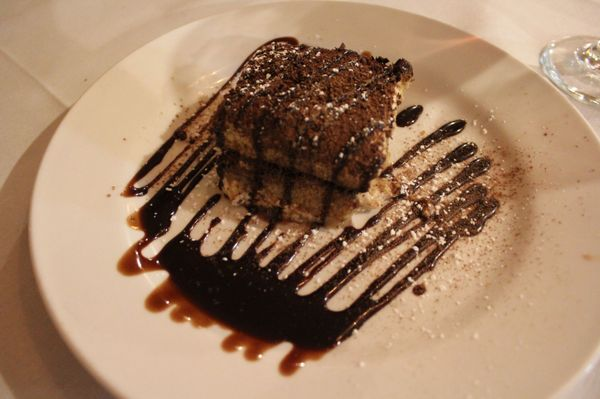curry: (1, 2, 577, 393)
sandwich: (538, 35, 600, 105)
sushi: (118, 30, 494, 353)
